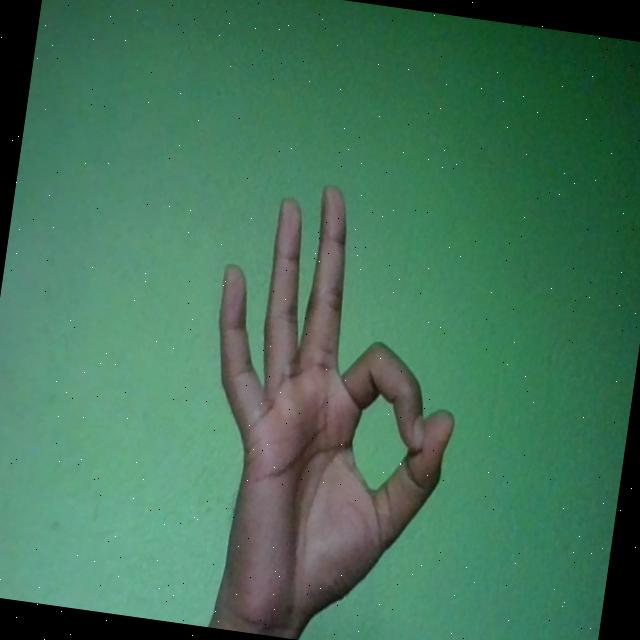Rock On: (177, 173, 486, 640)
